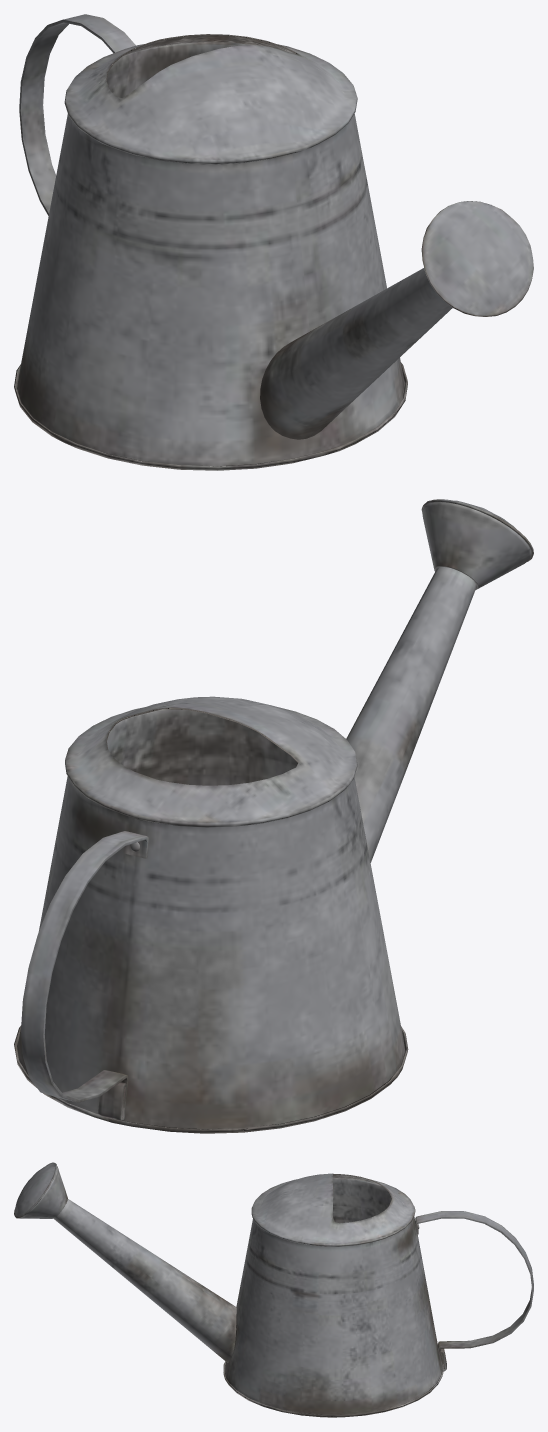
The model's file is watering_can_metal_01_1k.gltf.
3 views of the same model, one above another, from view 1: azimuth 30°, elevation 25°; view 2: azimuth 150°, elevation 25°; view 3: azimuth 270°, elevation 25° (orthographic). The views are drawn at different scales.
Parts seen in each view (by area): view 1: watering_can_metal_01; view 2: watering_can_metal_01; view 3: watering_can_metal_01.
Part boxes in pixels (x1,y1,x2,y2): watering_can_metal_01: (14, 14, 533, 470); watering_can_metal_01: (14, 499, 533, 1133); watering_can_metal_01: (14, 1162, 533, 1417).
Bounding box in the file's own units: 0.191 × 0.1967 × 0.4522.
Materials: 1 (1 with a texture image).
